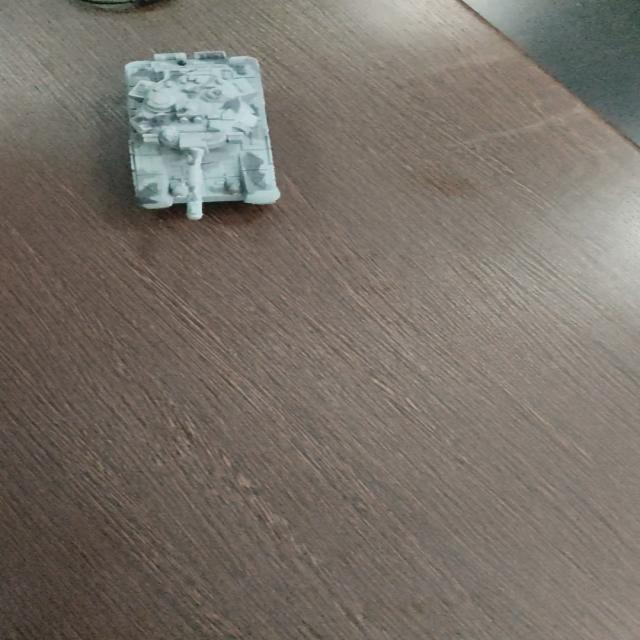tank: (117, 51, 286, 220)
